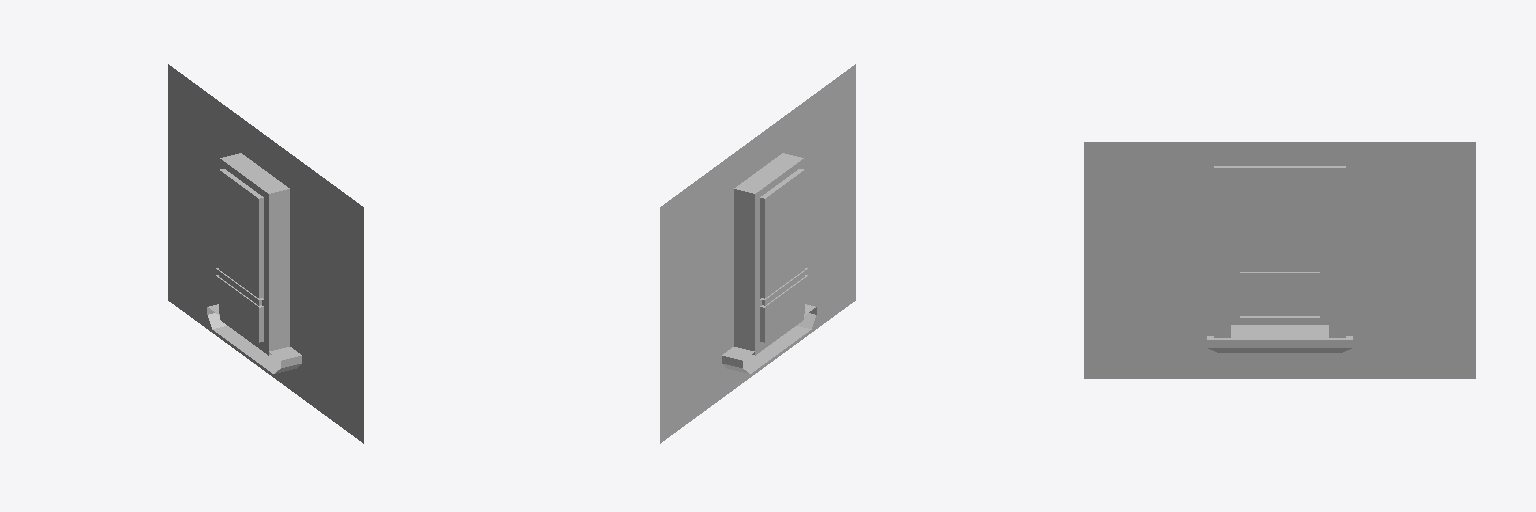
The model's file is NY_wallWindow2 1.obj.
3 renders of one model, left to right at view 1: azimuth 30°, elevation 25°; view 2: azimuth 150°, elevation 25°; view 3: azimuth 270°, elevation 25°, orthographic.
Parts seen in each view (by area): view 1: A_EXPO.obj.008; view 2: A_EXPO.obj.008; view 3: A_EXPO.obj.008.
Part boxes in pixels (bbox=[...]): A_EXPO.obj.008: bbox=[168, 64, 363, 443]; A_EXPO.obj.008: bbox=[660, 64, 855, 443]; A_EXPO.obj.008: bbox=[1084, 142, 1475, 378].
Bounding box in the file's own units: 0.3232 × 2 × 3.